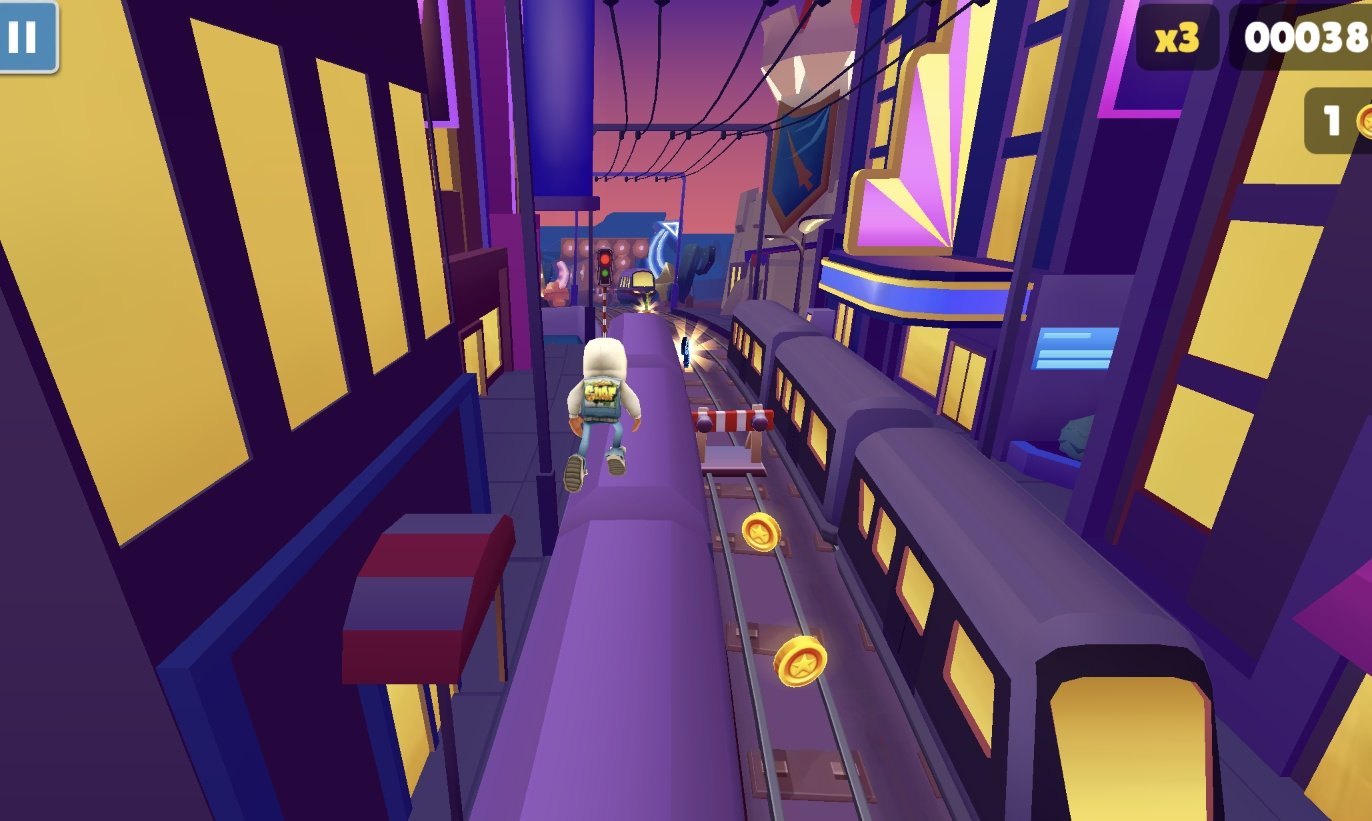ground_barrier: (694, 407, 772, 485), (594, 277, 624, 296)
pillar: (573, 246, 665, 294)
train: (739, 312, 1217, 821), (460, 314, 757, 821), (620, 263, 658, 299)
